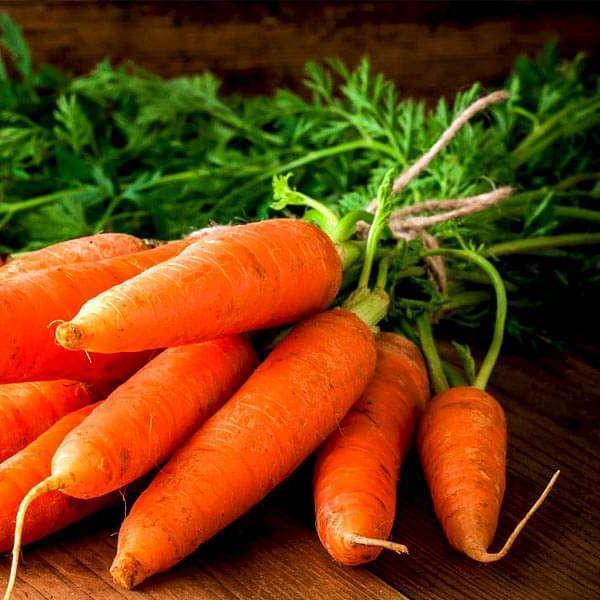carrot: (0, 241, 504, 567), (121, 275, 403, 567), (0, 245, 337, 364), (409, 375, 523, 562)
